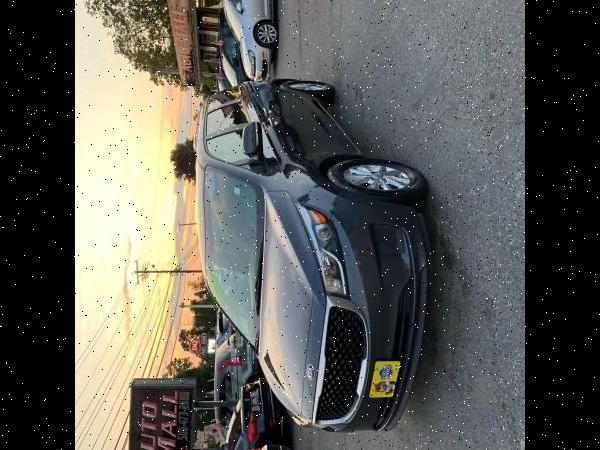Front_Bumper: (319, 192, 431, 436)
Front_Fender: (257, 151, 364, 218)
Front_Left_Door: (248, 113, 358, 166)
Front_Left_Window: (201, 122, 270, 172)
Front_Windshield: (200, 166, 262, 351)
Grille: (314, 296, 368, 427)
Hood: (257, 188, 325, 423)
Left_Headlight: (296, 204, 351, 295)
Rear_Fender: (208, 76, 278, 110)
Rear_Left_Door: (237, 87, 332, 121)
Rear_Left_Window: (206, 94, 251, 131)
Roof: (196, 96, 265, 283)
Wheel: (328, 154, 424, 200), (283, 79, 328, 91)
